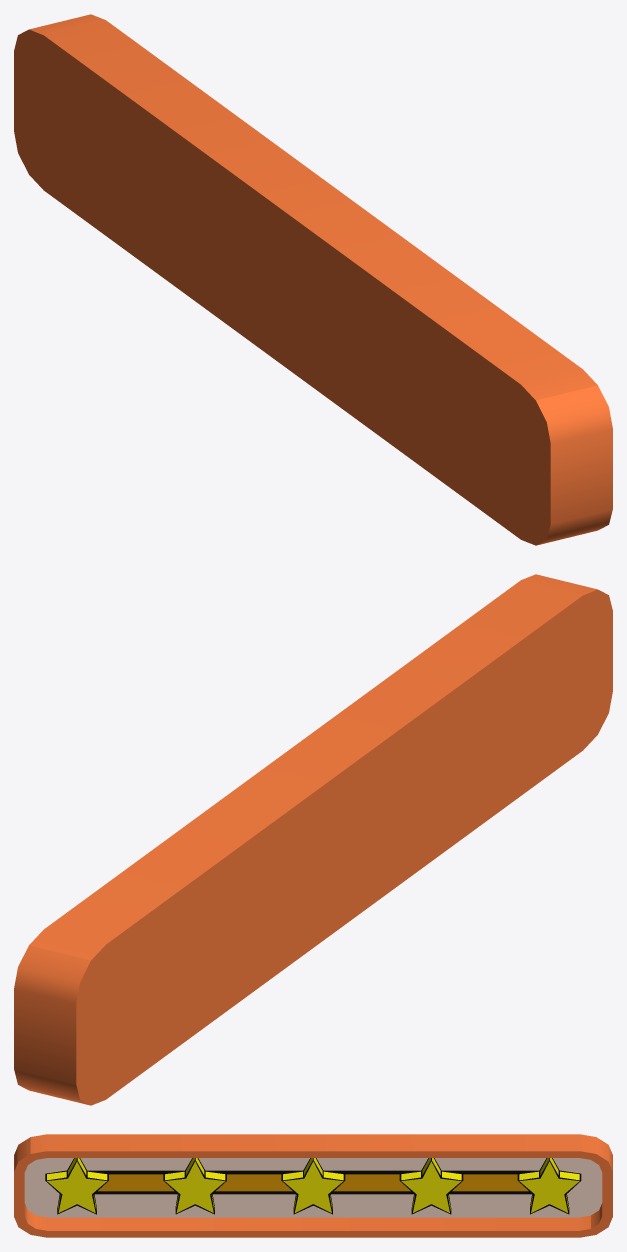
Rendered from placar.fbx.
3 renders of one model, top to bottom at view 1: azimuth 30°, elevation 25°; view 2: azimuth 150°, elevation 25°; view 3: azimuth 270°, elevation 25°, orthographic. The views are drawn at different scales.
Visible parts, largest first — view 1: Placar; view 2: Placar; view 3: Placar, Barra de Progresso, Outline Barra, Outline Estrelas, Estrela 1, Estrela 2, Estrela 3, Estrela 4, Estrela 5.
Boxes of the visible parts, x1,y1,x2,y2 form: Placar: (14,14,612,545); Placar: (14,574,612,1105); Placar: (14,1134,612,1237); Barra de Progresso: (98,1174,528,1191); Outline Barra: (90,1170,536,1194); Outline Estrelas: (45,1158,581,1214); Estrela 1: (47,1158,107,1212); Estrela 2: (165,1158,225,1212); Estrela 3: (283,1158,343,1212); Estrela 4: (401,1158,461,1212); Estrela 5: (519,1158,579,1212).
Size of the model in its own units: 34.09 by 81.28 by 510.
